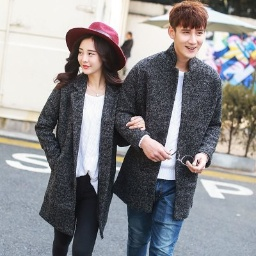face: (61, 32, 118, 86), (165, 2, 209, 58)
